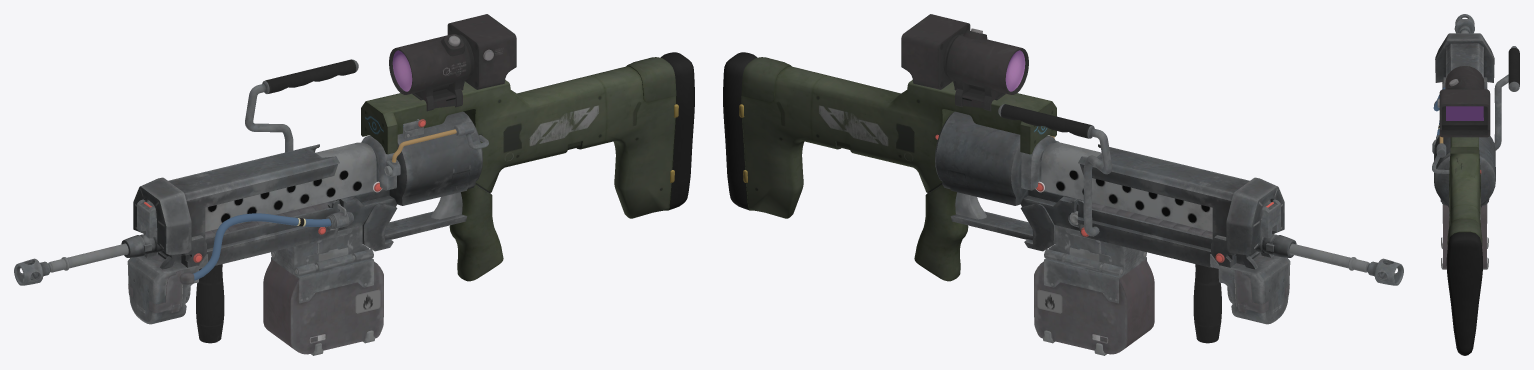
The model's file is g4-dynamax-v2.glb.
The picture shows the model from 3 angles, left to right: view 1: azimuth 30°, elevation 25°; view 2: azimuth 150°, elevation 25°; view 3: azimuth 270°, elevation 25°; orthographic projection. The views are drawn at different scales.
Parts seen in each view (by area): view 1: body_2_low, body_1_low, sight_low, clip_low, flame_arrester_low, muzzle_box_low, clip_detail_1_low, big_handle_low, handle_low, muzzle_low, muzzle_handle_low, tube_2_low (+7 smaller); view 2: body_2_low, body_1_low, sight_low, clip_low, flame_arrester_low, muzzle_box_low, big_handle_low, clip_detail_1_low, handle_low, muzzle_low, muzzle_handle_low, body_connect_2_low (+6 smaller); view 3: body_2_low, body_1_low, sight_low, big_handle_low, clip_low, muzzle_low, cyclinder_detail_3_low, clip_detail_7_low, tube_2_low, muzzle_handle_low.
Boxes of the visible parts, x1,y1,x2,y2 form: body_2_low: (361,52,694,218); body_1_low: (133,111,503,281); sight_low: (389,14,516,111); clip_low: (263,259,383,354); flame_arrester_low: (205,142,376,231); muzzle_box_low: (127,252,207,324); clip_detail_1_low: (271,225,373,303); big_handle_low: (245,59,358,152); handle_low: (196,264,224,343); muzzle_low: (14,243,128,285); muzzle_handle_low: (121,231,206,269); tube_2_low: (193,213,331,280); body_2_low: (723,52,1056,218); body_1_low: (914,111,1284,281); sight_low: (901,14,1028,111); clip_low: (1034,259,1154,354); flame_arrester_low: (1041,142,1212,231); muzzle_box_low: (1210,252,1290,324); big_handle_low: (998,104,1112,236); clip_detail_1_low: (1044,225,1146,303); handle_low: (1193,264,1221,343); muzzle_low: (1289,243,1403,285); muzzle_handle_low: (1211,231,1296,269); body_connect_2_low: (1021,135,1059,190); body_2_low: (1446,137,1482,355); body_1_low: (1434,33,1495,207); sight_low: (1439,66,1490,137); big_handle_low: (1494,46,1519,150); clip_low: (1443,204,1486,268); muzzle_low: (1454,14,1474,33); cyclinder_detail_3_low: (1432,143,1449,173); clip_detail_7_low: (1441,237,1488,269); tube_2_low: (1433,87,1445,135); muzzle_handle_low: (1442,77,1487,89).
Bounding box in the file's own units: 686 × 272 × 96.62.
2 materials, 2 textured.
